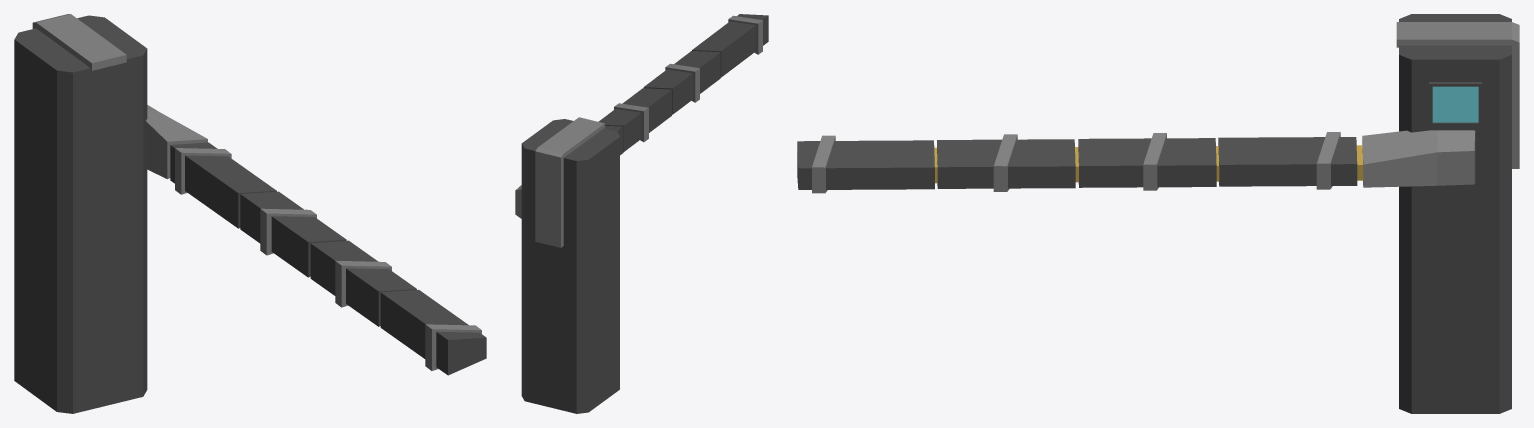
The model's file is BarrièreAuto.fbx.
3 views of the same model, side by side, from view 1: azimuth 30°, elevation 25°; view 2: azimuth 150°, elevation 25°; view 3: azimuth 270°, elevation 25° (orthographic). The views are drawn at different scales.
Parts seen in each view (by area): view 1: BarrièreAutomatique; view 2: BarrièreAutomatique; view 3: BarrièreAutomatique.
Part boxes in pixels (x1,y1,x2,y2): BarrièreAutomatique: (14,14,486,413); BarrièreAutomatique: (515,14,768,413); BarrièreAutomatique: (797,14,1519,413).
Bounding box in the file's own units: 14.33 × 34.86 × 63.33.
